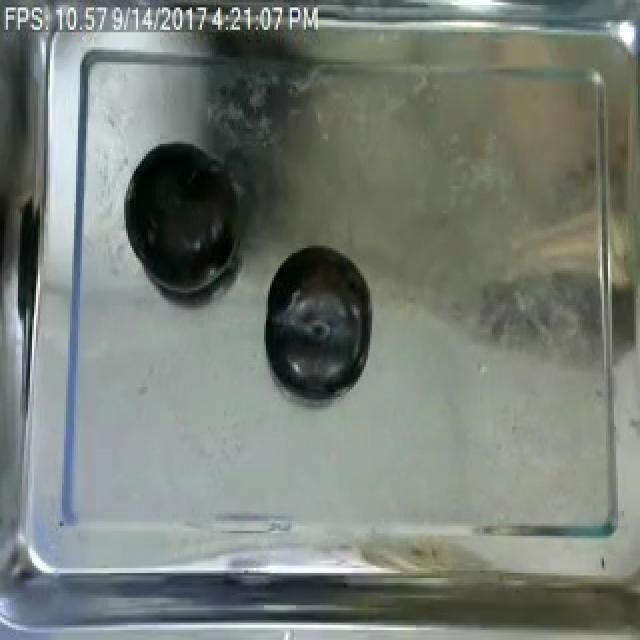Fruit: (118, 134, 242, 303), (260, 238, 372, 402)
